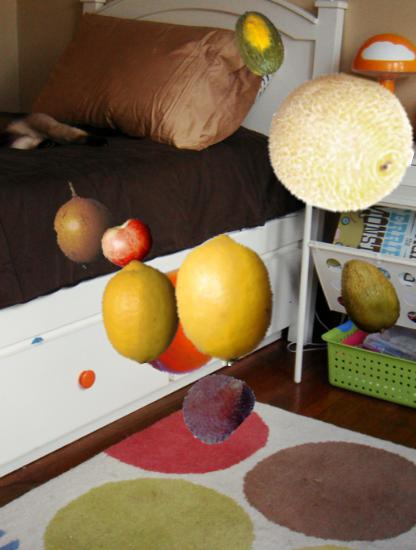Cantaloupe: (268, 70, 415, 217)
Granadilla: (39, 178, 129, 268)
Lemon: (160, 235, 290, 365), (90, 260, 192, 362)
Melon: (228, 8, 297, 77)
Nectarine: (102, 218, 155, 271)
Papaya: (328, 255, 411, 338)
Salak: (179, 369, 255, 445)
Tangelo: (125, 263, 238, 376)
